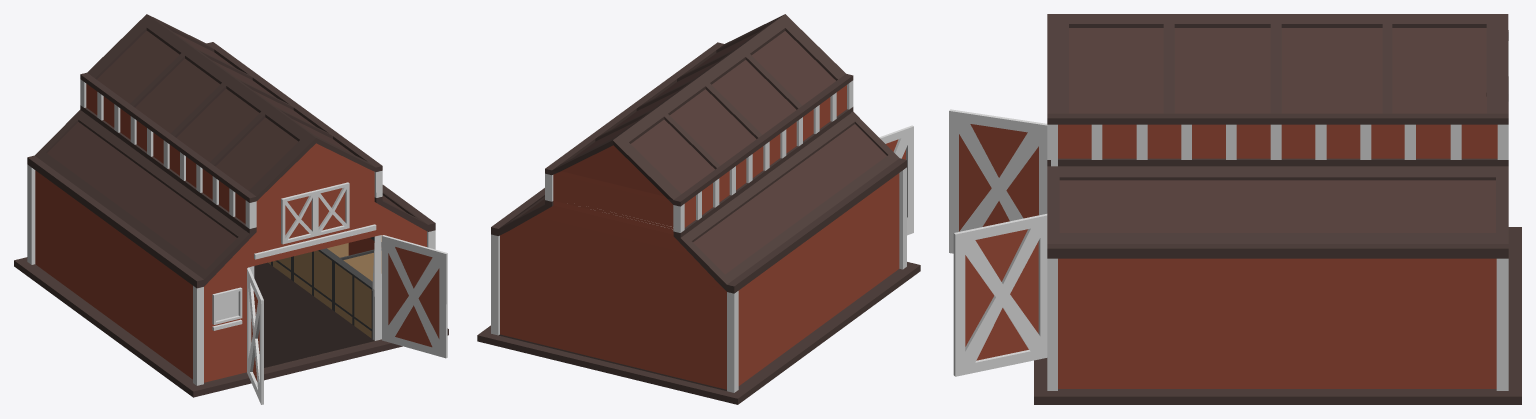
The model's file is Barn.glb.
3 renders of one model, left to right at view 1: azimuth 30°, elevation 25°; view 2: azimuth 150°, elevation 25°; view 3: azimuth 270°, elevation 25°, orthographic. The views are drawn at different scales.
Visible parts, largest first — view 1: Barn, MainDoorPosX, MainDoorNegX, StableDoor5-NegY, StableDoor5-PosY; view 2: Barn, MainDoorNegX; view 3: Barn, MainDoorPosX, MainDoorNegX.
Part boxes in pixels (left/top/right/bottom): Barn: left=14, top=14, right=448, bottom=397; MainDoorPosX: left=382, top=235, right=447, bottom=358; MainDoorNegX: left=247, top=268, right=263, bottom=404; StableDoor5-NegY: left=313, top=248, right=339, bottom=309; StableDoor5-PosY: left=293, top=251, right=312, bottom=295; Barn: left=477, top=14, right=920, bottom=404; MainDoorNegX: left=879, top=125, right=913, bottom=235; Barn: left=1034, top=14, right=1521, bottom=404; MainDoorPosX: left=953, top=214, right=1047, bottom=376; MainDoorNegX: left=949, top=109, right=1047, bottom=253.
Bounding box in the file's own units: 73.69 × 61.93 × 105.
